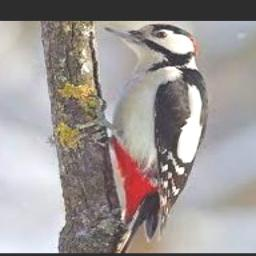Woodpecker: (84, 24, 209, 253)
